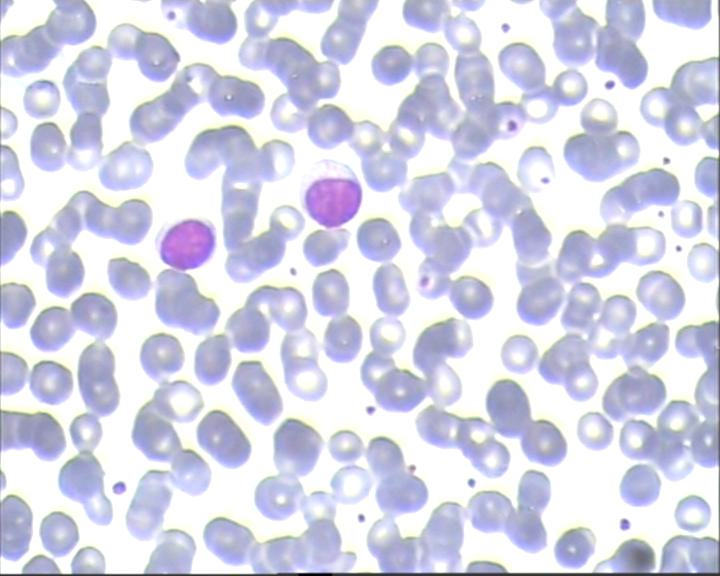lymp: (292, 155, 365, 228), (148, 210, 226, 275)
